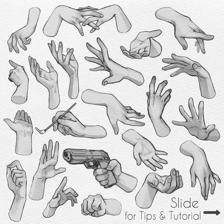Hand: (171, 130, 215, 204), (167, 94, 217, 153), (48, 33, 90, 96), (122, 127, 160, 175)
